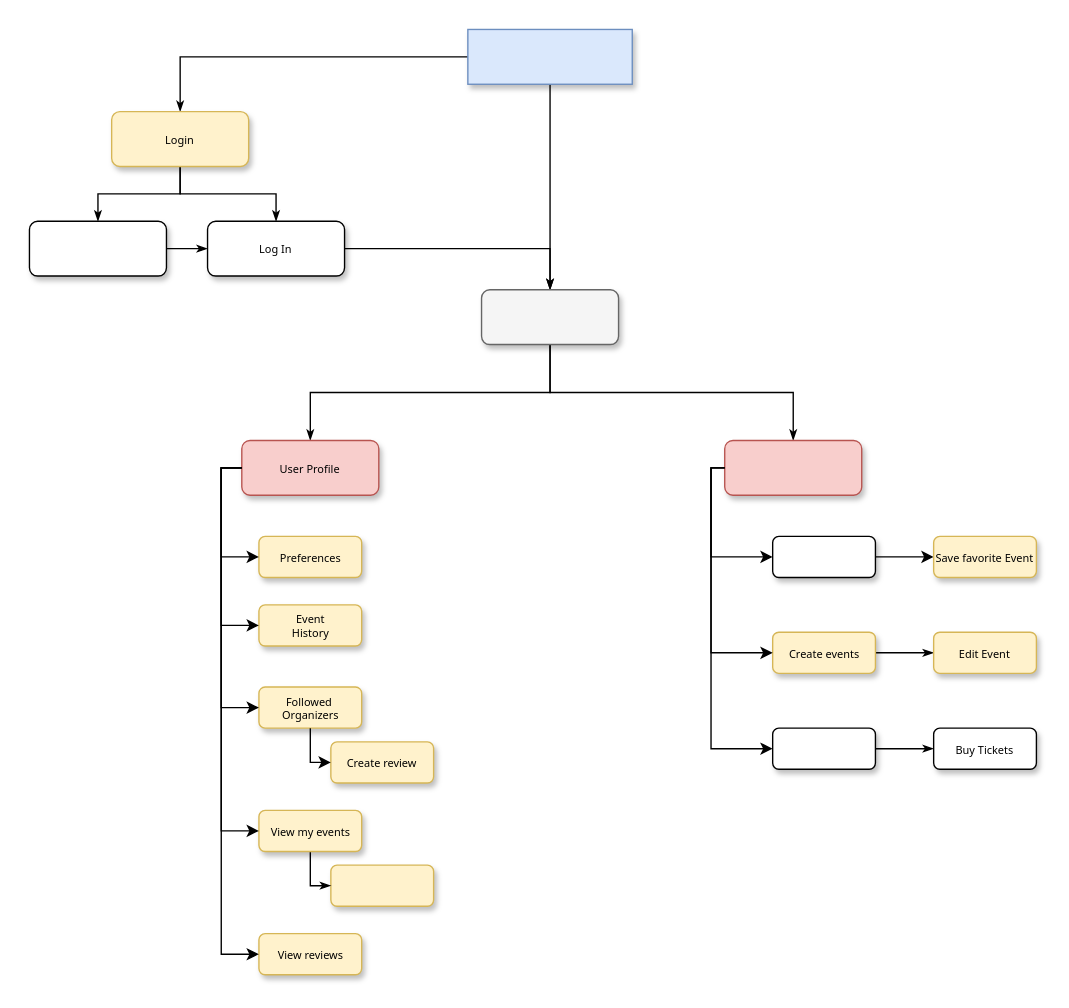
The diagram is 1069 pixels wide and 1008 high, and some of its shapes have lost their labels. Here are the shapes that lost their labels. From the top down, the centre of each, then its label:
(x=550, y=58): Eventy
(x=99, y=250): Registration
(x=551, y=318): Home
(x=794, y=469): Events
(x=825, y=558): View events
(x=825, y=750): Event Details
(x=383, y=887): Analytics
